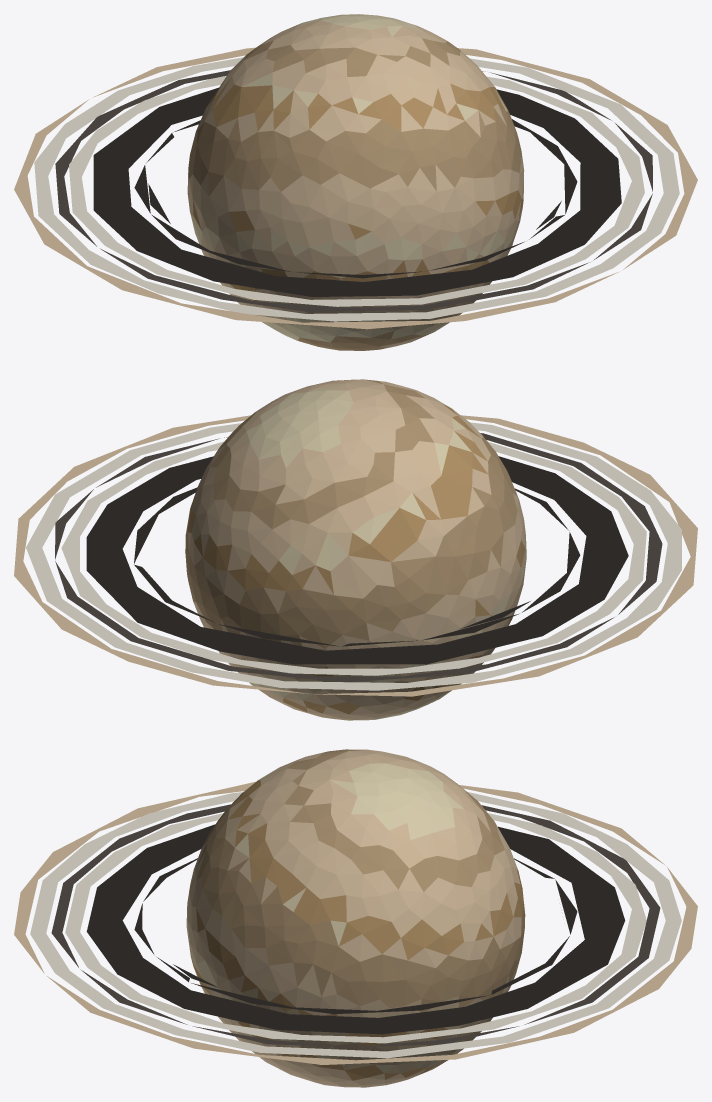
Rendered from saturn.glb.
3 views of the same model, one above another, from view 1: azimuth 30°, elevation 25°; view 2: azimuth 150°, elevation 25°; view 3: azimuth 270°, elevation 25° (orthographic).
Parts seen in each view (by area): view 1: saturn; view 2: saturn; view 3: saturn.
Boxes of the visible parts, x1=… form: saturn: x1=14, y1=14, x2=697, y2=350; saturn: x1=14, y1=379, x2=697, y2=720; saturn: x1=14, y1=749, x2=697, y2=1087.
Bounding box in the file's own units: 8.35 × 4.13 × 8.35.
Materials: 1 (1 with a texture image).
